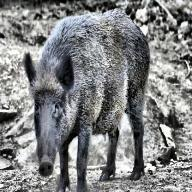boar: (23, 5, 153, 191)
